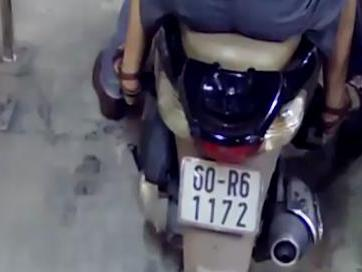num_plate: (179, 155, 262, 236)
